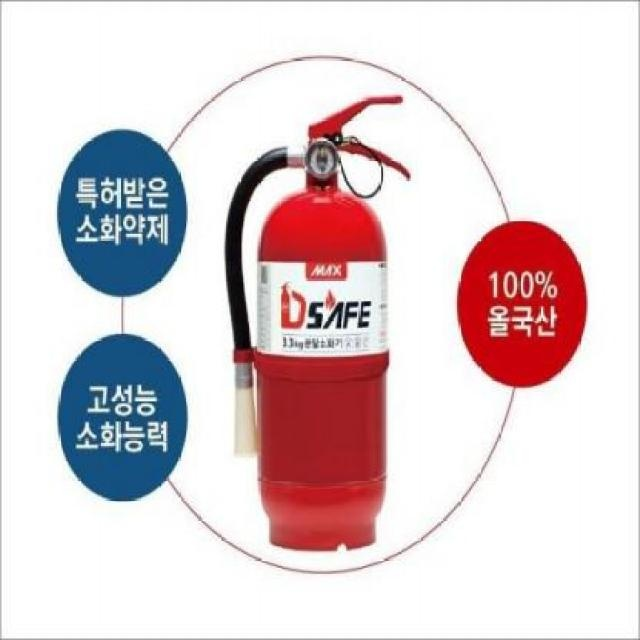fire extinguisher: (223, 93, 411, 553)
